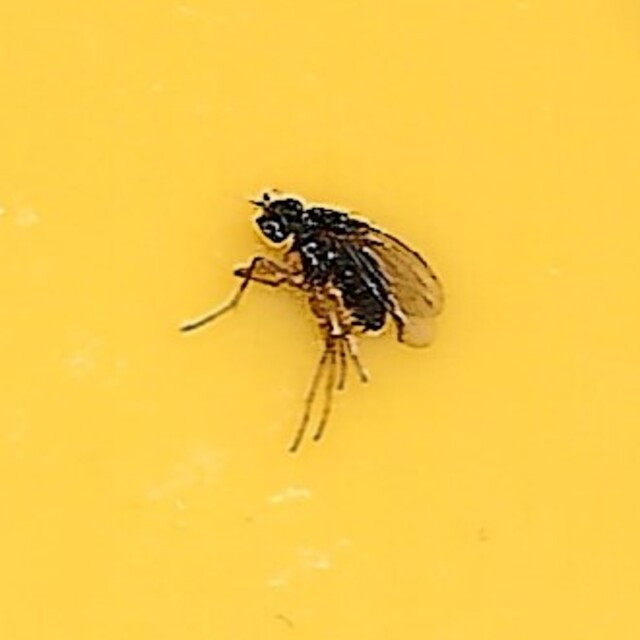Brachycera: (194, 184, 446, 456)
